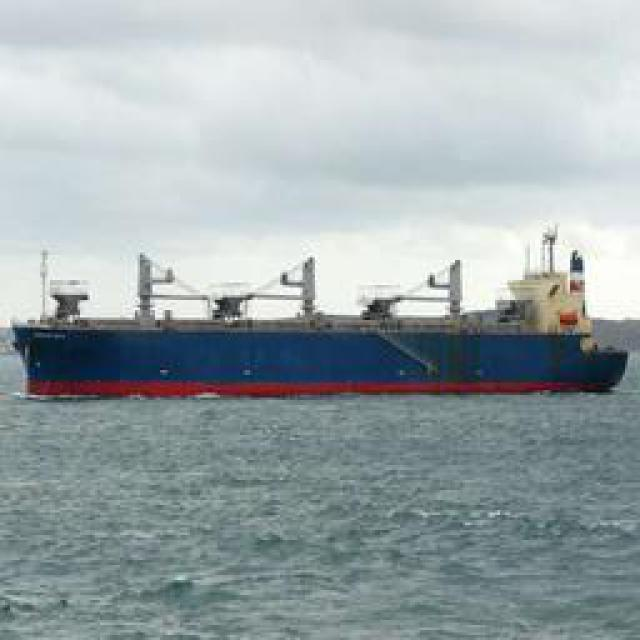Ship: (6, 245, 624, 400)
